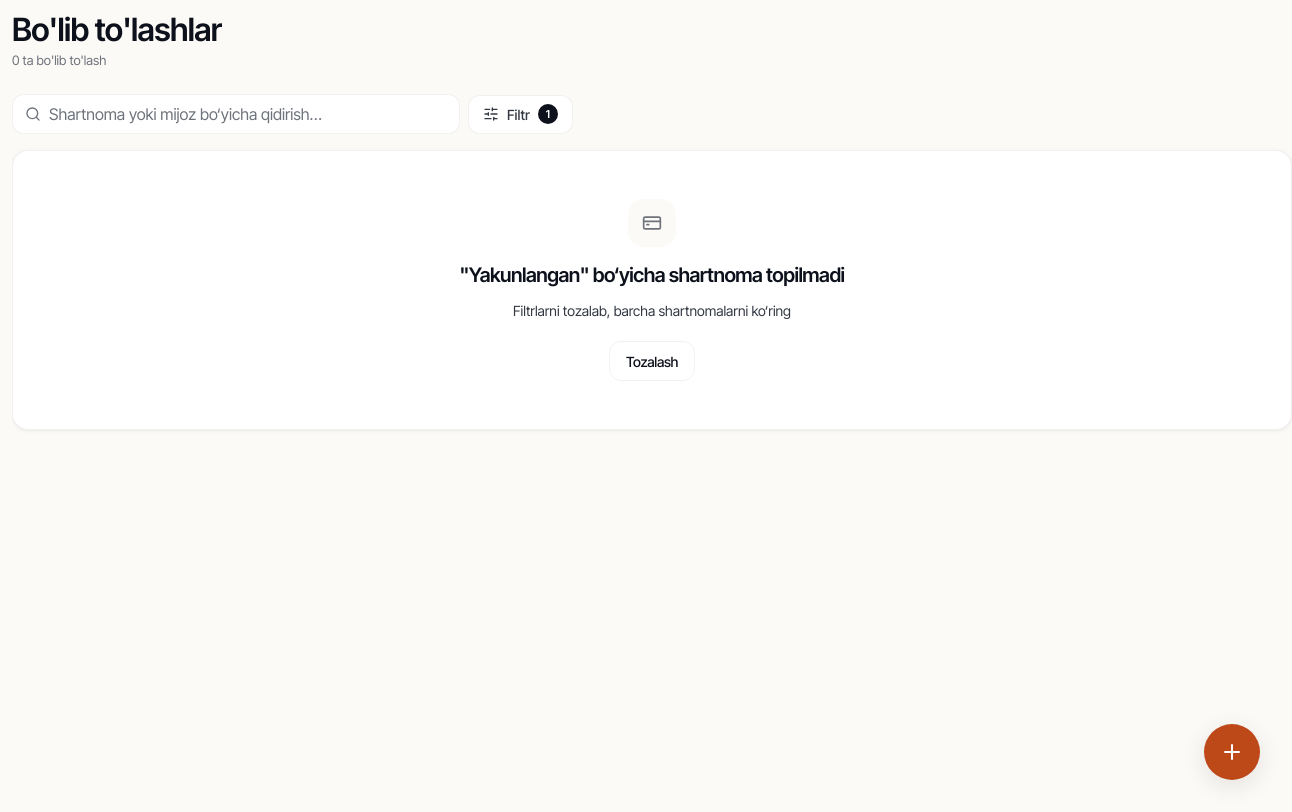
Test: a non-search refinement clears only refinements › outside collections, an excluding status filter names itself and clears
The width and height of the screenshot is (1292, 812).
Click the button "Tozalash" at coordinates (652, 361), box top-left (609, 341), bottom-right (695, 381)
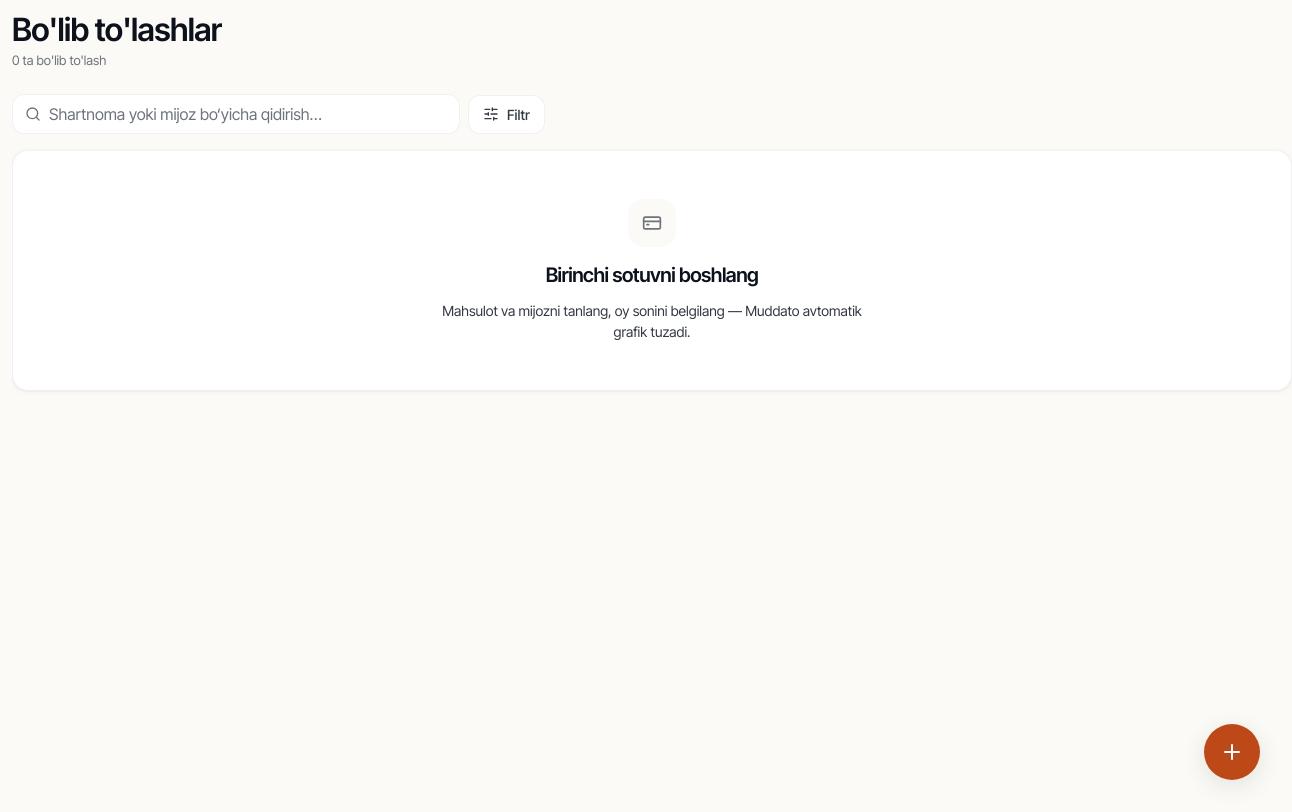
Now the heading "Birinchi sotuvni boshlang" is shown, box top-left (546, 263), bottom-right (758, 288)
